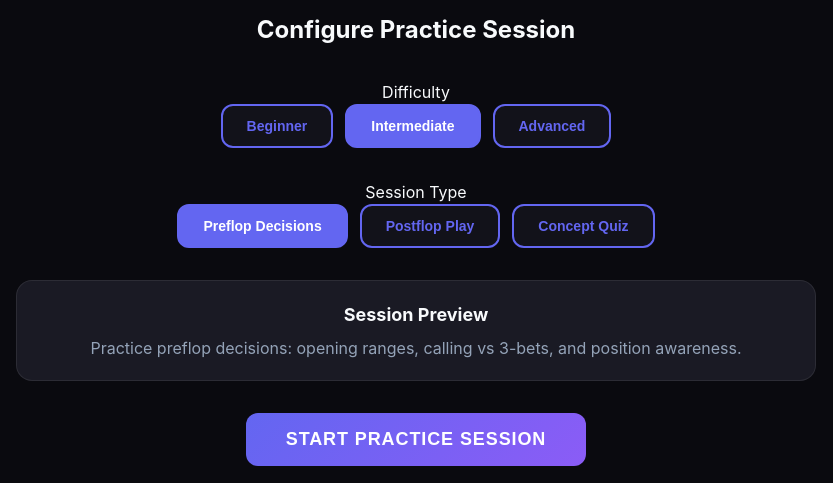
Test: PracticeSession › Setup Screen › should switch session type
Click the button "Concept Quiz" at {"x": 584, "y": 226}, box [512,204,655,248]
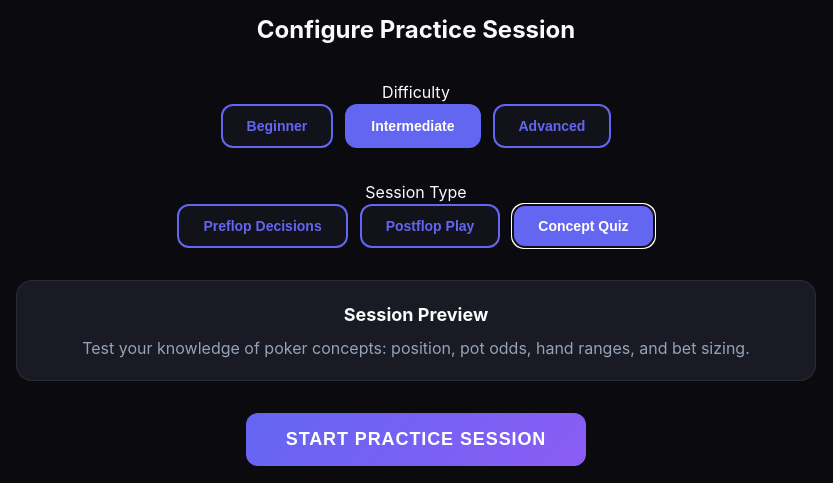
Expected: the text "Test your knowledge of poker concepts" is shown, [82,338,750,358]
